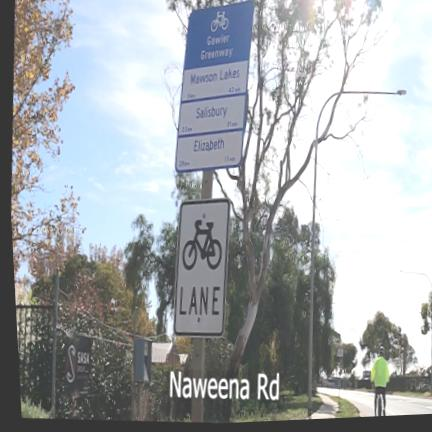Bike_Sign: (175, 0, 253, 172), (174, 197, 230, 336)
